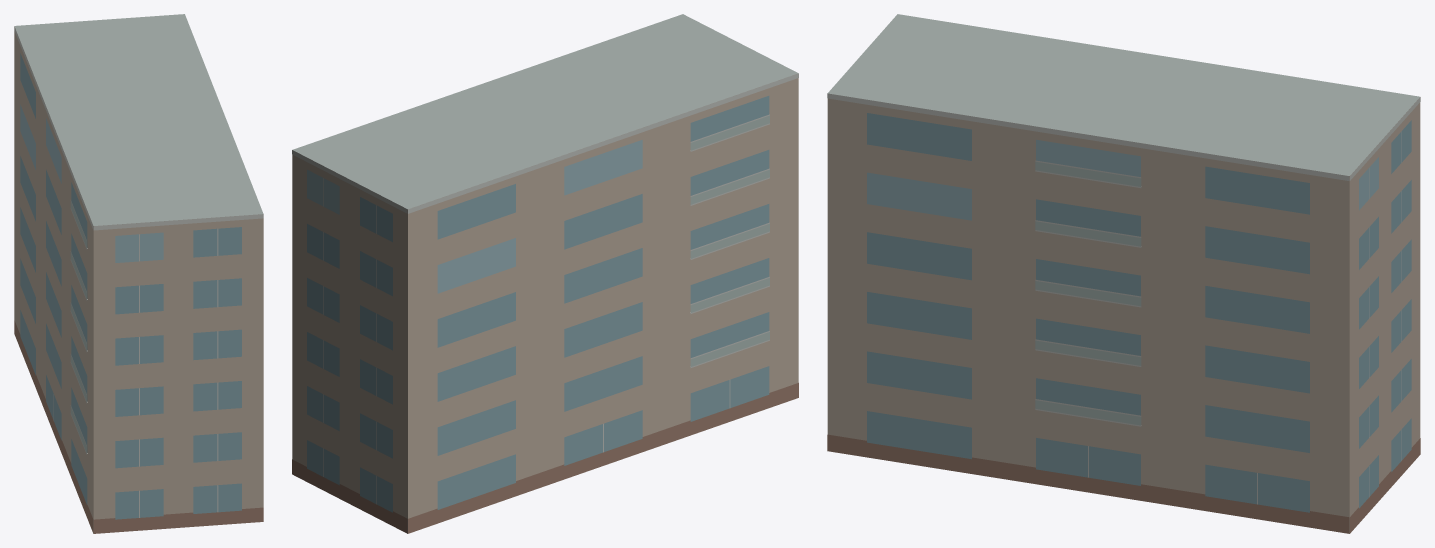
File: survey-upis-32552825.glb
The picture shows the model from 3 angles, left to right: view 1: azimuth 30°, elevation 25°; view 2: azimuth 150°, elevation 25°; view 3: azimuth 270°, elevation 25°; orthographic projection. The views are drawn at different scales.
Visible parts, largest first — view 1: survey-upis-32552825.tmp; view 2: survey-upis-32552825.tmp; view 3: survey-upis-32552825.tmp.
Boxes of the visible parts, left/top/right/bottom form: survey-upis-32552825.tmp: left=14, top=14, right=263, bottom=533; survey-upis-32552825.tmp: left=292, top=14, right=798, bottom=533; survey-upis-32552825.tmp: left=827, top=14, right=1420, bottom=533.
Size of the model in its own units: 16.73 by 17.2 by 25.85.
